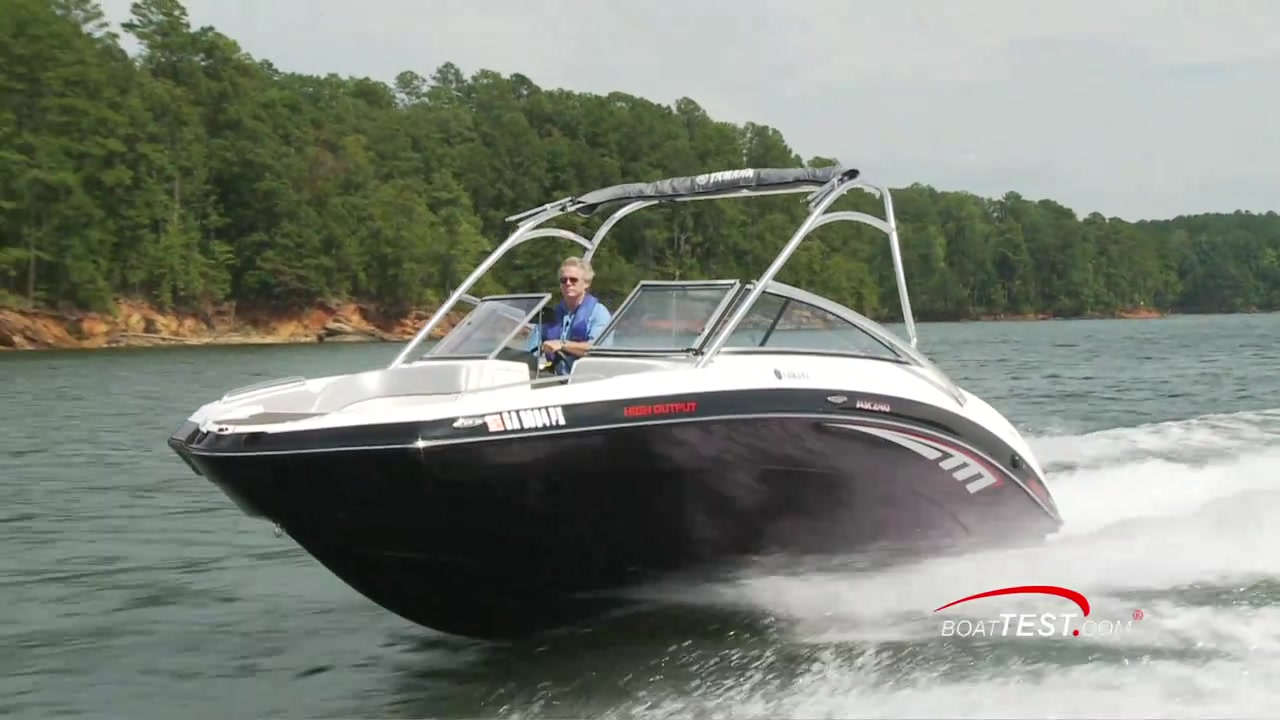boat: (165, 157, 1065, 658)
